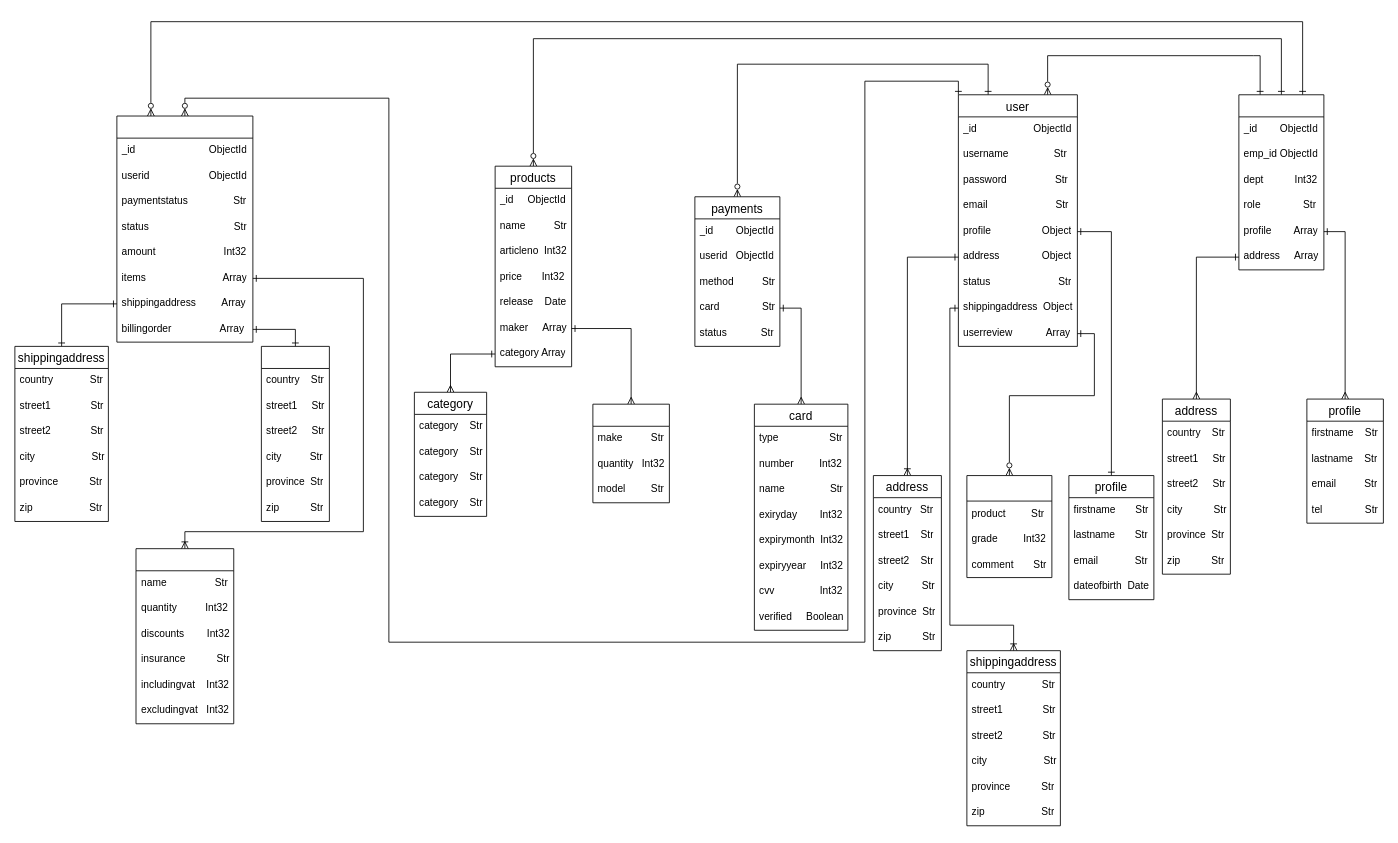
The diagram is 1398 pixels wide and 843 high, and some of its shapes have lost their labels. The box of each missing label's shape, as (x1, y1, x2, y2) in pixels:
admin: (1238, 94, 1324, 270)
billingorder: (261, 346, 329, 521)
items: (135, 548, 234, 724)
maker: (592, 403, 669, 503)
orders: (116, 115, 253, 342)
userreview: (966, 475, 1052, 578)
